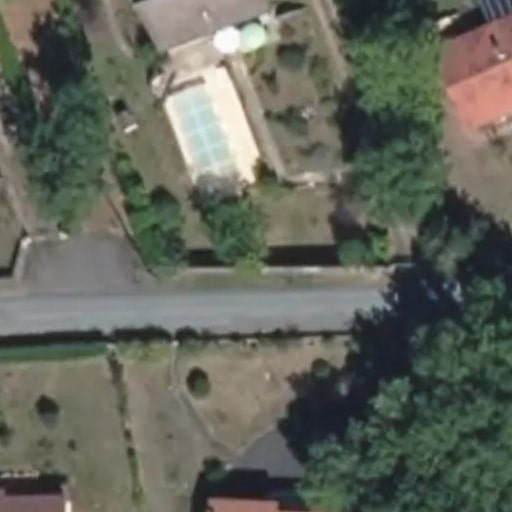pool: (167, 84, 241, 184)
